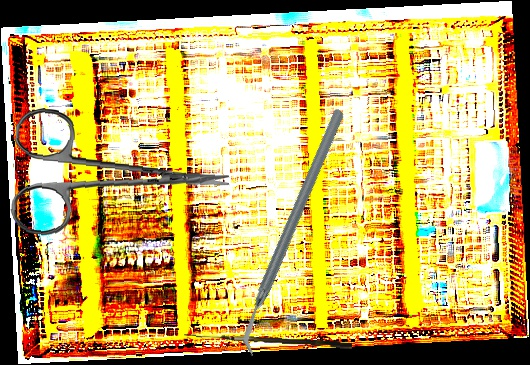Chopper: (166, 107, 421, 359)
Hook Surgical: (183, 334, 353, 349)
Iris Scissors: (8, 106, 235, 249)
